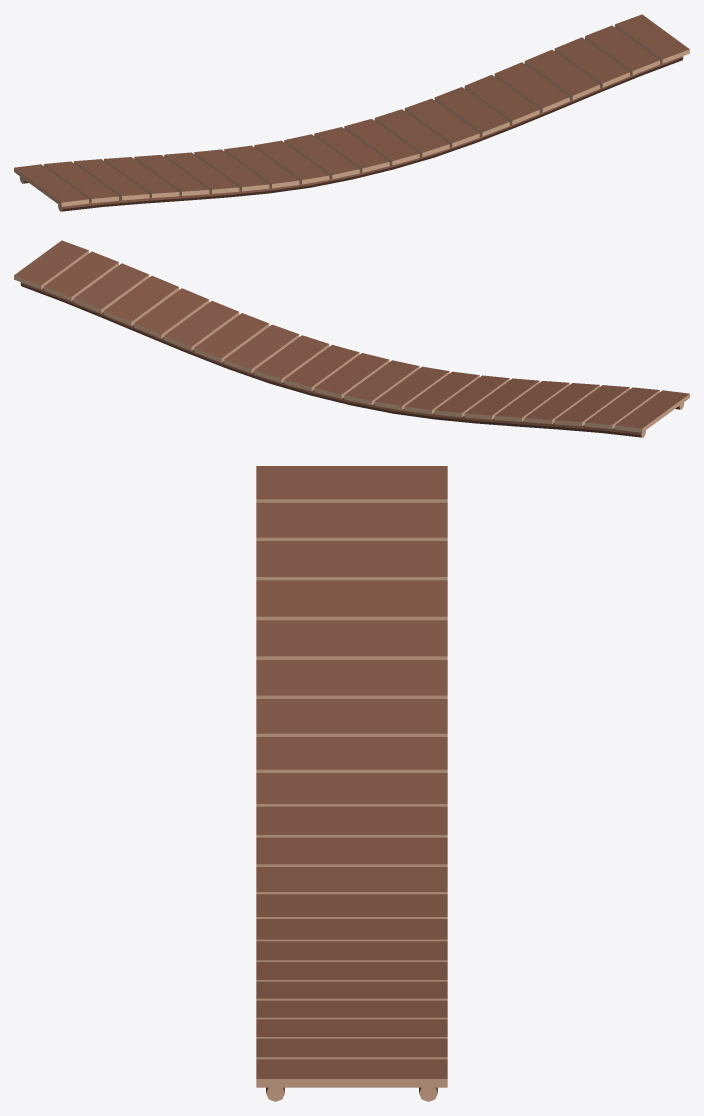
The model's file is Bridge.fbx.
3 views of the same model, one above another, from view 1: azimuth 30°, elevation 25°; view 2: azimuth 150°, elevation 25°; view 3: azimuth 270°, elevation 25° (orthographic). The views are drawn at different scales.
Visible parts, largest first — view 1: Cylinder; view 2: Cylinder; view 3: Cylinder.
Boxes of the visible parts, bbox=[...] form: Cylinder: bbox=[14, 14, 689, 211]; Cylinder: bbox=[14, 240, 689, 437]; Cylinder: bbox=[256, 466, 447, 1101].
Bounding box in the file's own units: 1518 × 120 × 200.
